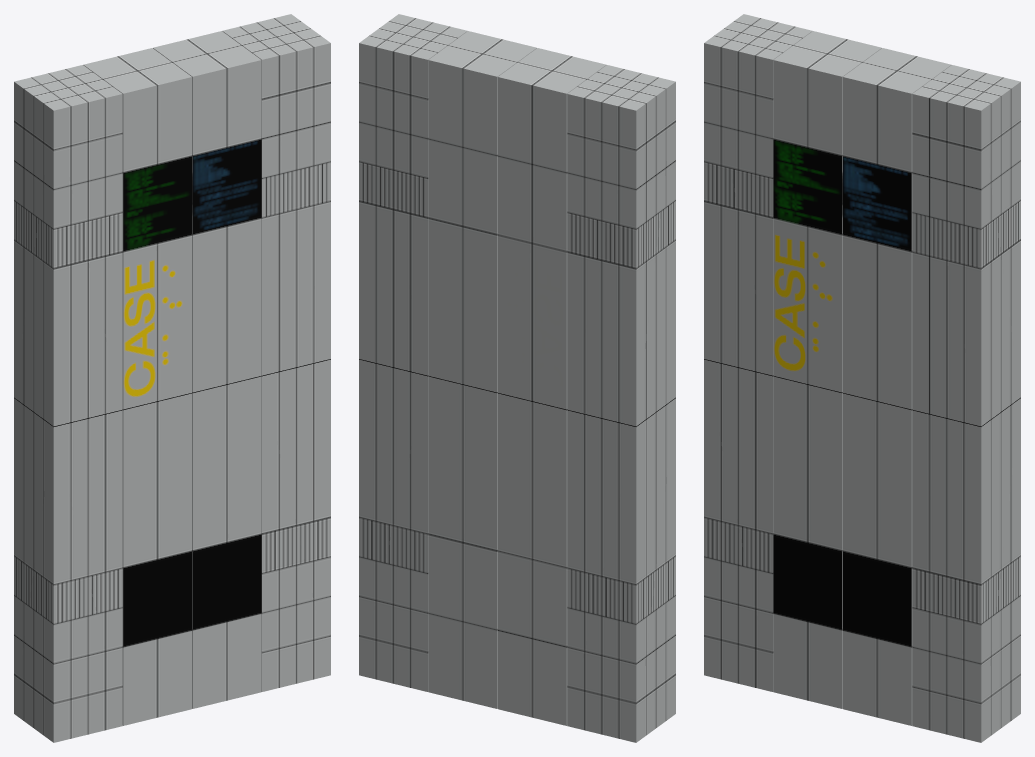
Rendered from tars.glb.
3 views of the same model, side by side, from view 1: azimuth 30°, elevation 25°; view 2: azimuth 150°, elevation 25°; view 3: azimuth 330°, elevation 25° (orthographic).
Parts seen in each view (by area): view 1: Object_2; view 2: Object_2; view 3: Object_2.
Boxes of the visible parts, bbox=[...] form: Object_2: bbox=[14, 14, 330, 742]; Object_2: bbox=[359, 14, 675, 742]; Object_2: bbox=[704, 14, 1020, 742].
Size of the model in its own units: 0.9176 by 2 by 0.2279.
1 material, 1 textured.
